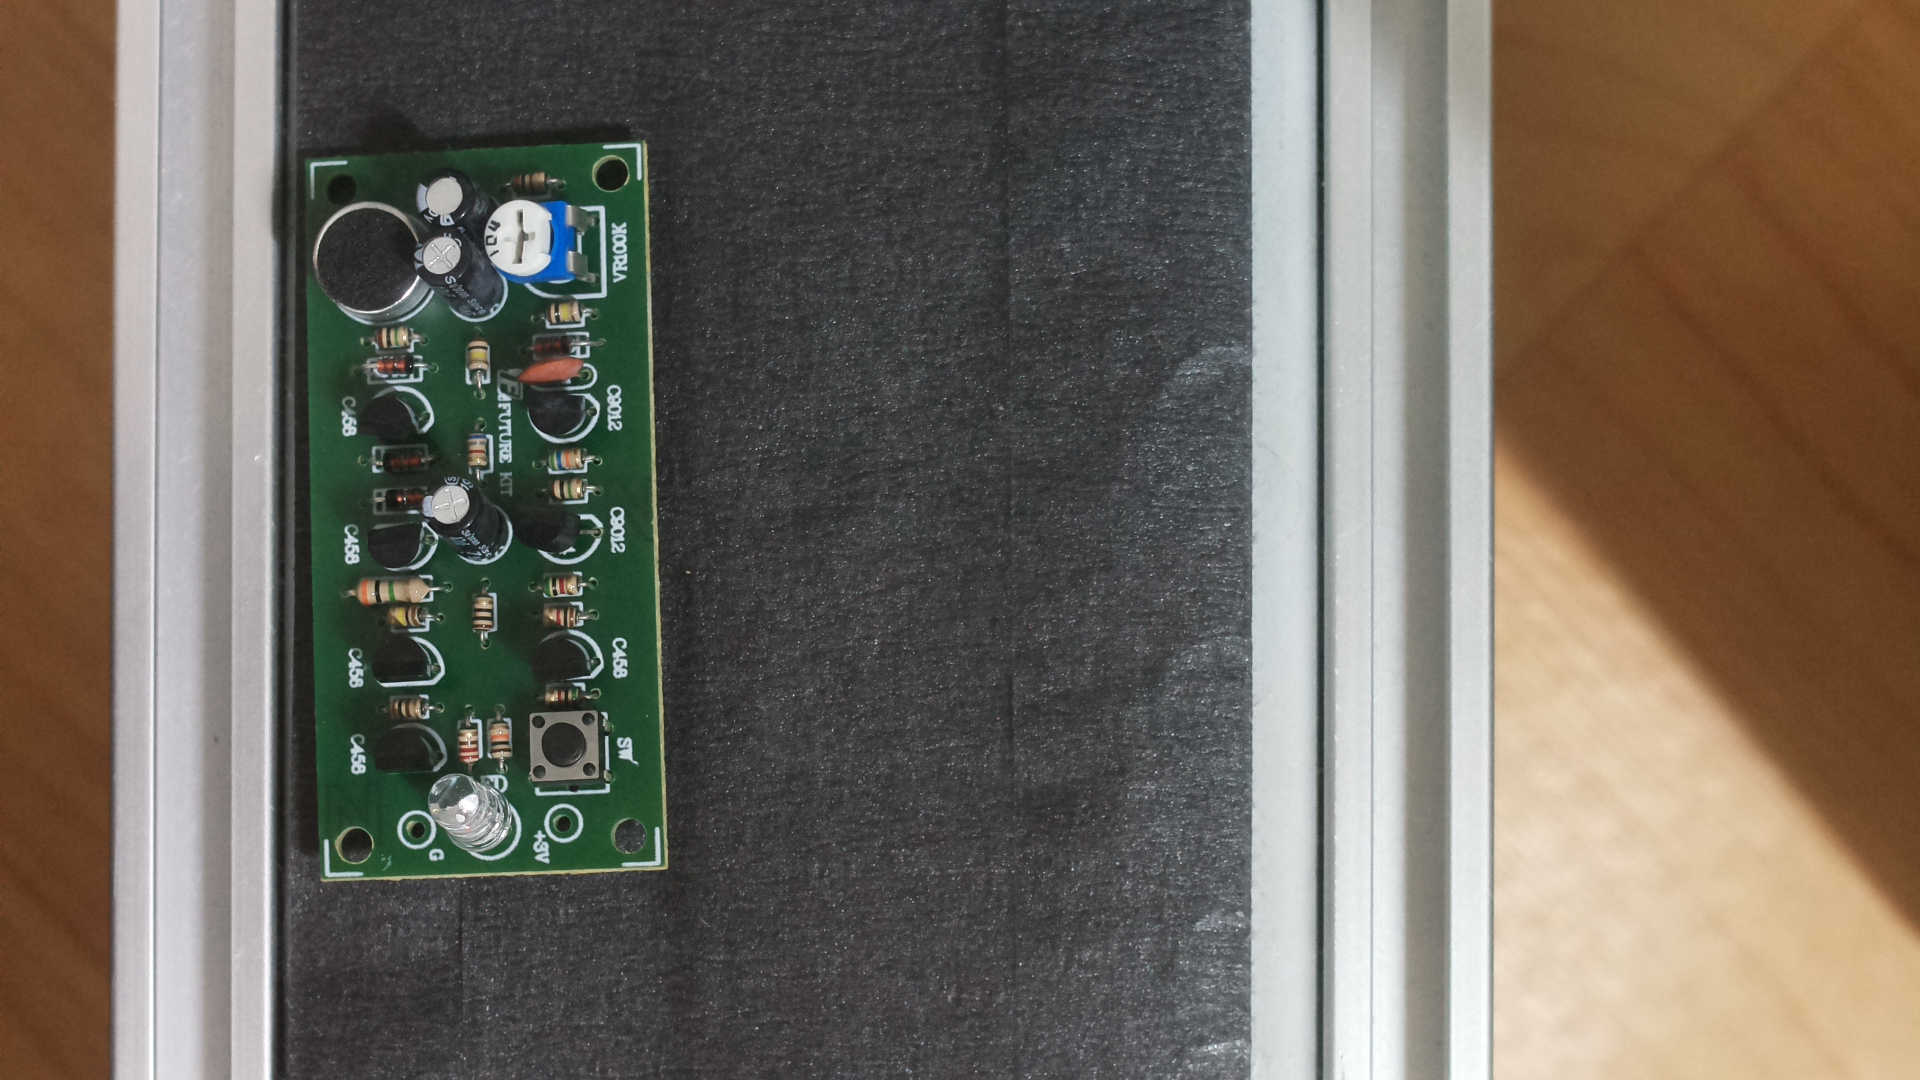A_Normal: (291, 144, 691, 893)
